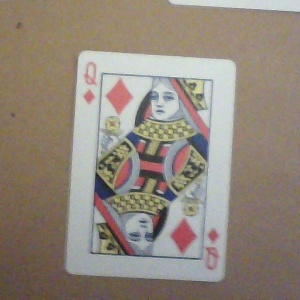card: (63, 49, 237, 283)
